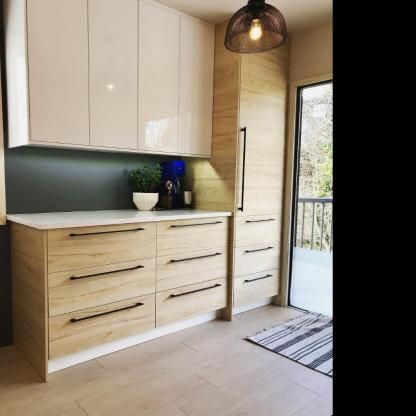Cabinet: (9, 214, 283, 384)
